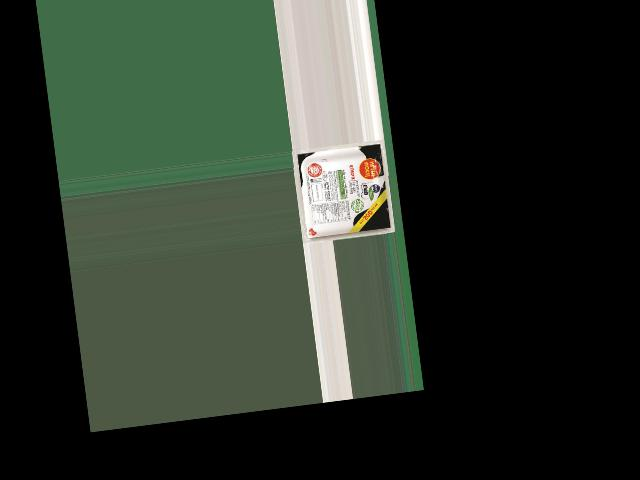cheese: (299, 143, 389, 242)
